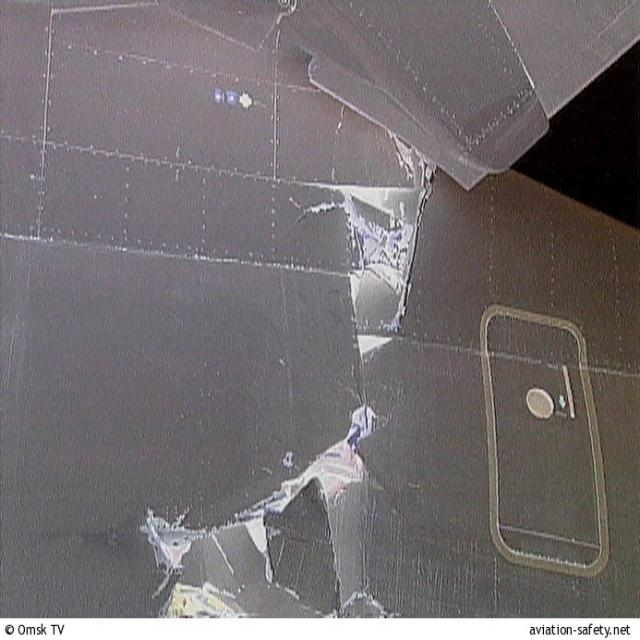crack: (135, 407, 386, 607)
